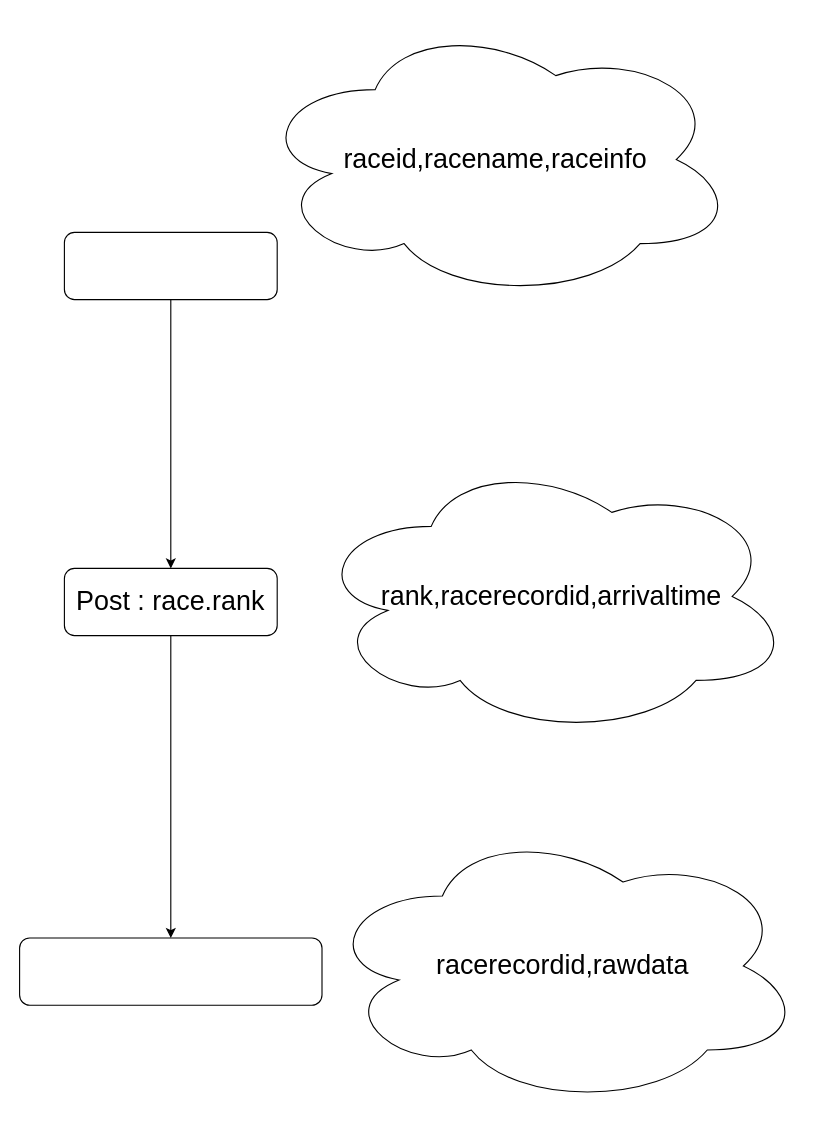
The diagram is 823 pixels wide and 1126 high, and some of its shapes have lost their labels. Each missing label, with the box of its shape:
get : all race: (63, 231, 277, 300)
Post : race.record.text: (18, 937, 322, 1005)
